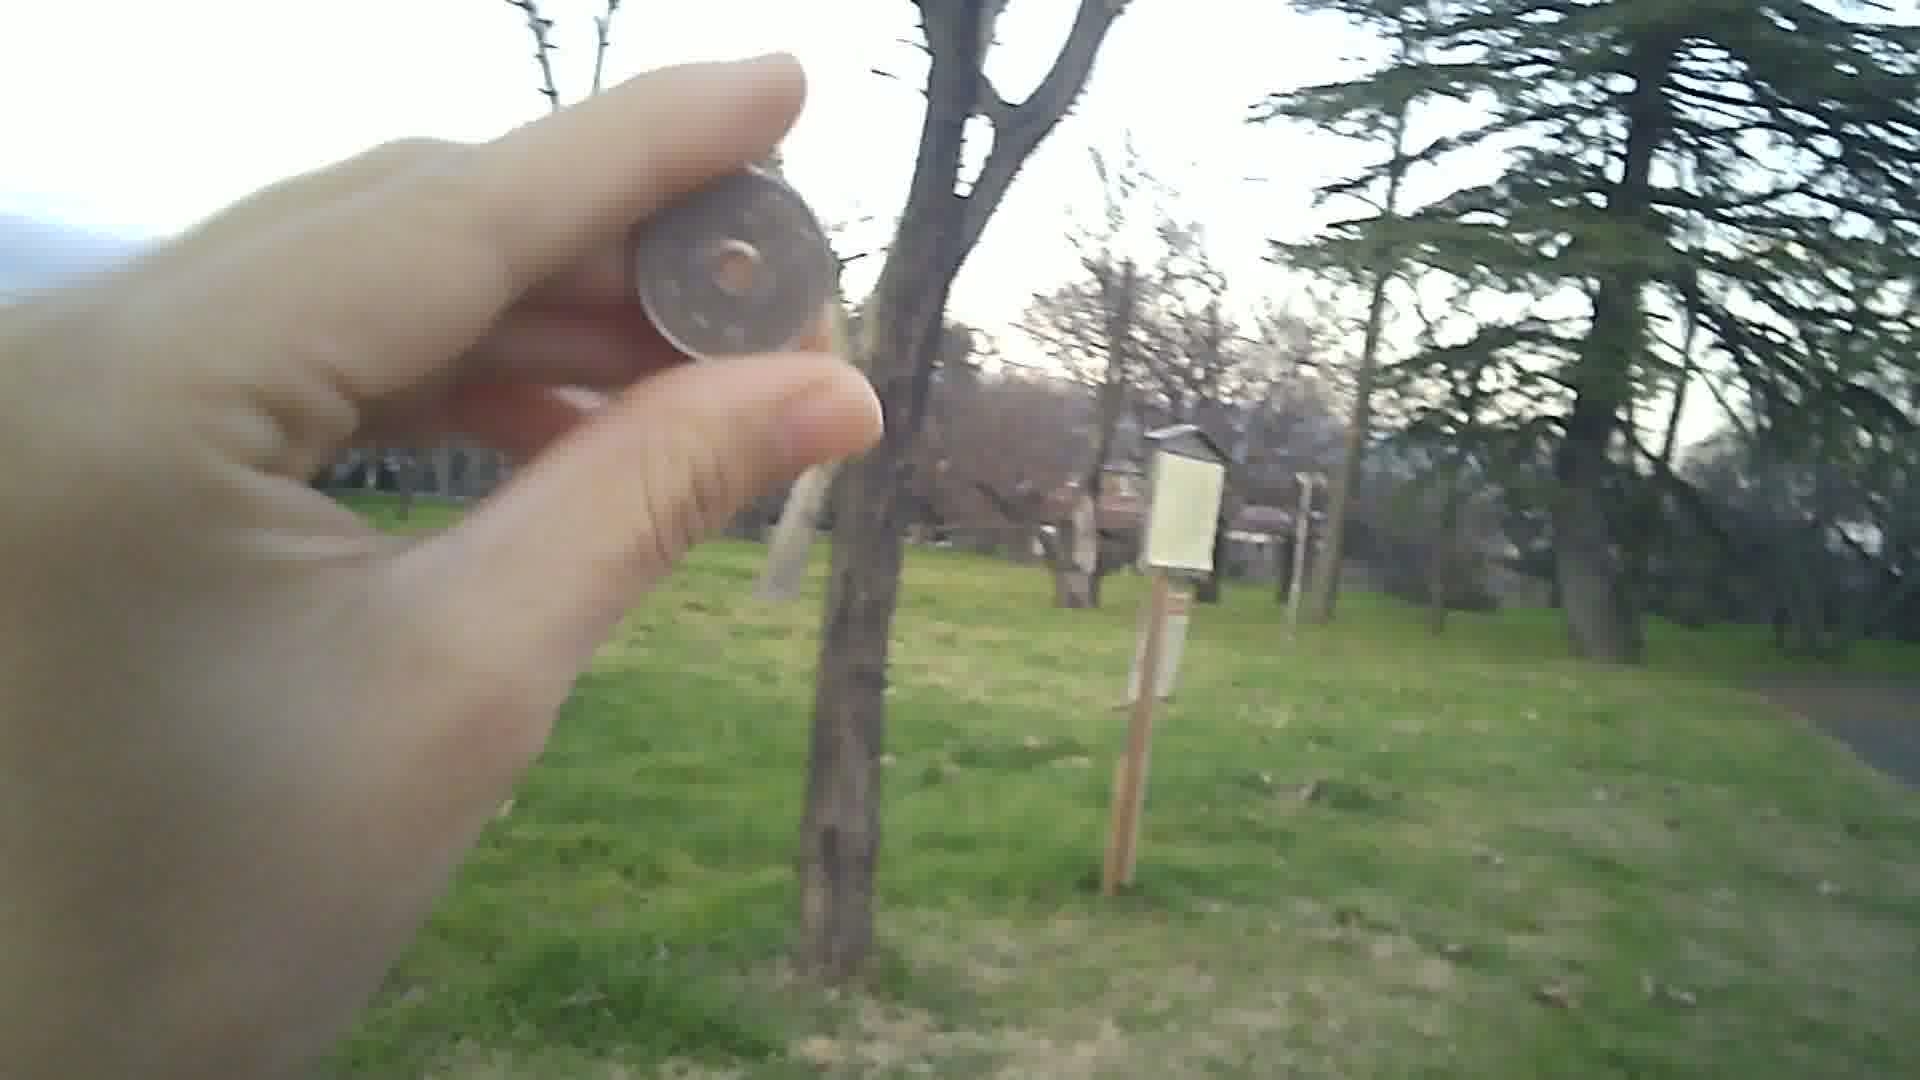50 Yen: (626, 164, 841, 367)
